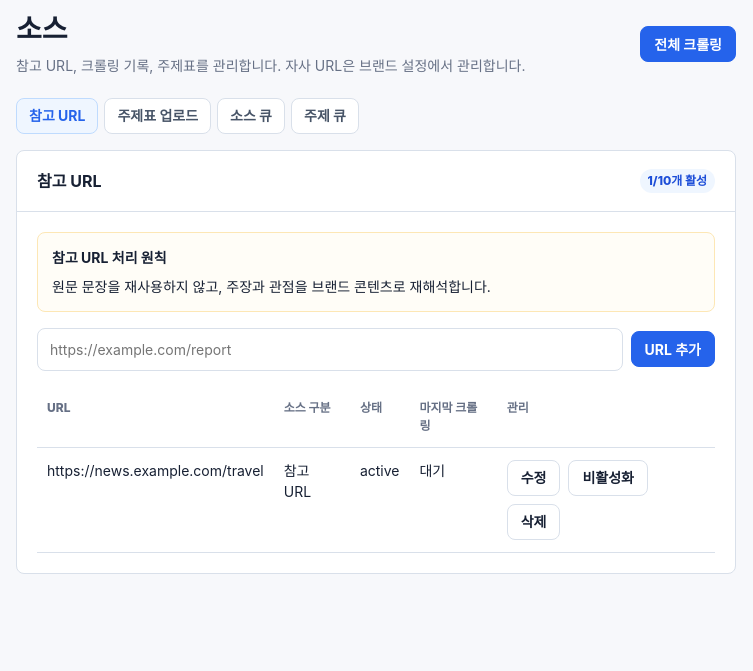
Test case: SourcesPage › shows a duplicate URL message when source creation returns a duplicate error
In the field named "참고 URL": (330, 349) [37,328,623,371], type "https://api.example.com"
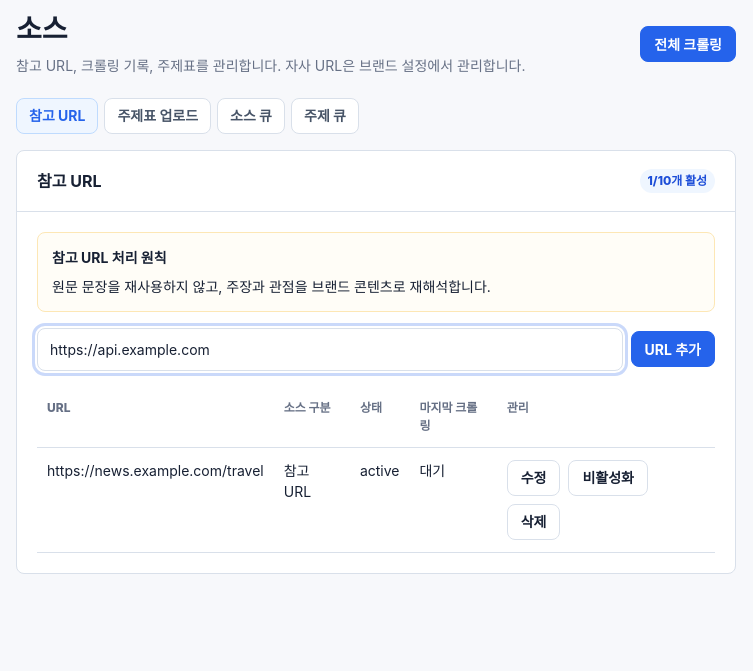
Click the button "URL 추가": (673, 349) [631,331,715,367]
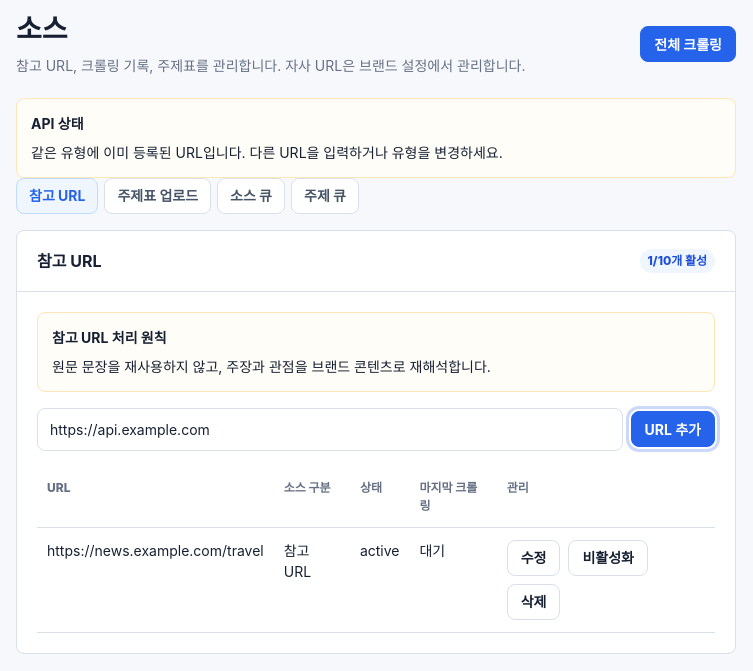
Now the text "같은 유형에 이미 등록된 URL입니다. 다른 URL을 입력하거나 유형을 변경하세요." is shown, box [31,144,503,161]
